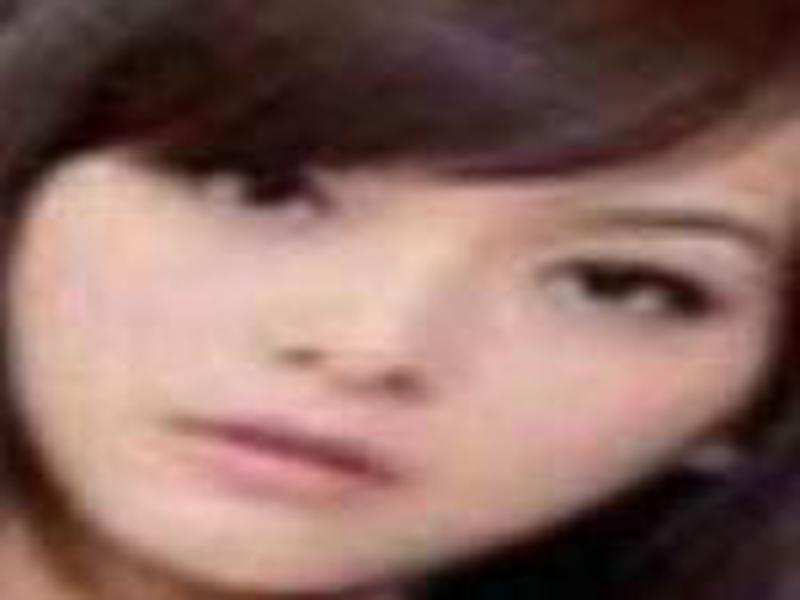without_mask: (7, 119, 785, 578)
